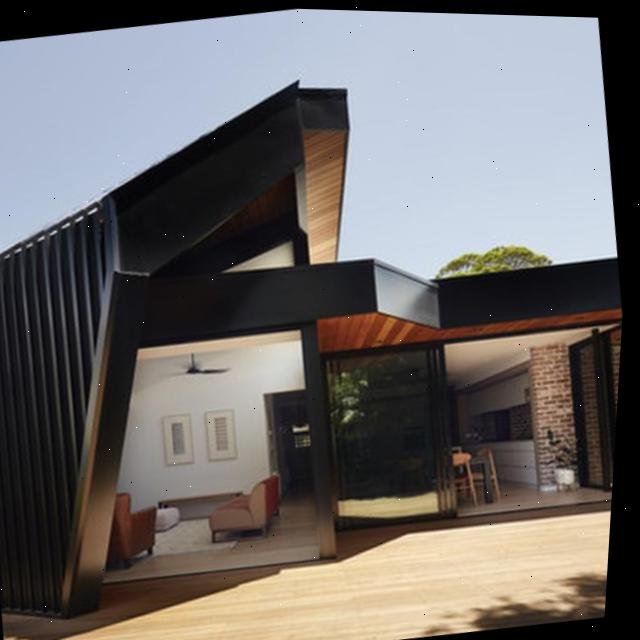building: (0, 27, 638, 640)
